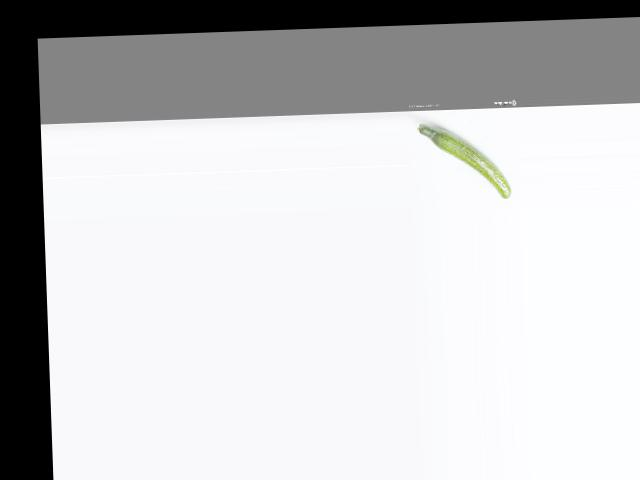cucumber: (416, 120, 510, 201)
